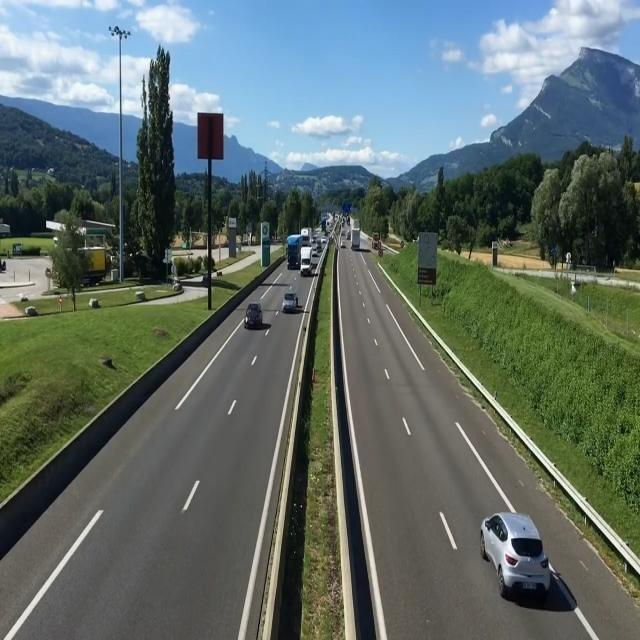Bus: (282, 232, 302, 270)
Car: (457, 507, 567, 611), (243, 298, 263, 329), (282, 289, 296, 311), (338, 237, 348, 250)
Truck: (301, 248, 314, 274), (350, 225, 362, 249)
